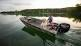fishing boat: (17, 10, 71, 37)
